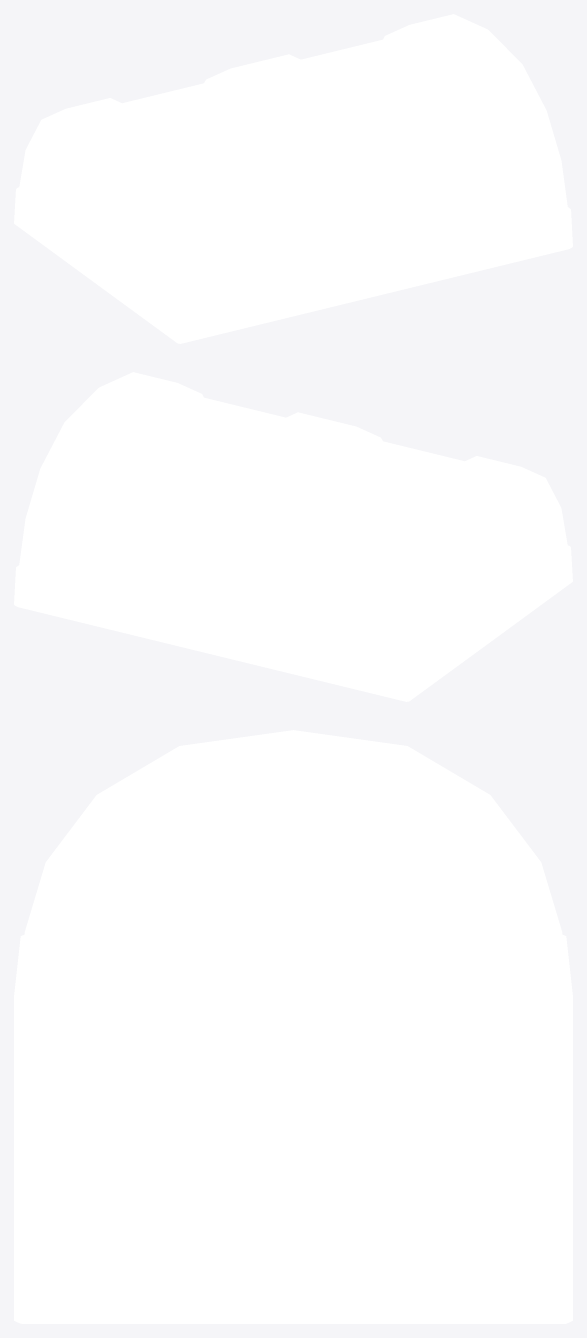
File: treature_box_up.gltf
3 renders of one model, top to bottom at view 1: azimuth 30°, elevation 25°; view 2: azimuth 150°, elevation 25°; view 3: azimuth 270°, elevation 25°, orthographic. The views are drawn at different scales.
Visible parts, largest first — view 1: treature_box_up; view 2: treature_box_up; view 3: treature_box_up.
Part boxes in pixels (x1=…): treature_box_up: x1=14, y1=14, x2=572, y2=343; treature_box_up: x1=14, y1=372, x2=572, y2=701; treature_box_up: x1=14, y1=730, x2=572, y2=1323.
Bounding box in the file's own units: 52.04 × 20.11 × 37.56.
1 material, 1 textured.
